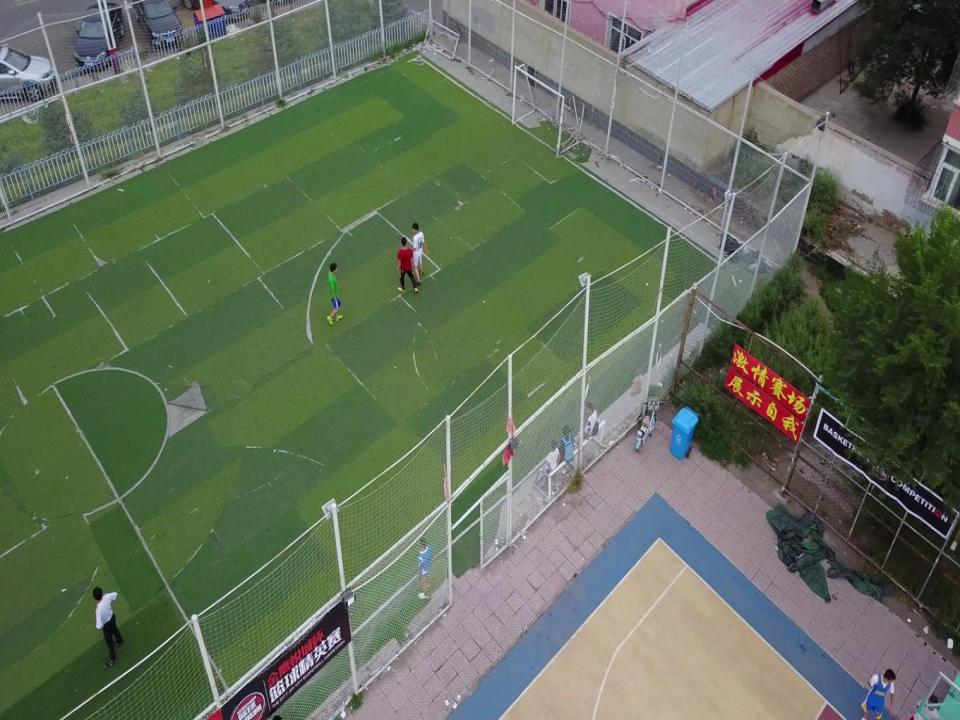car: (70, 1, 126, 73), (0, 42, 55, 106), (132, 0, 184, 57)
